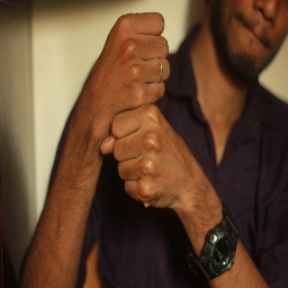G: (87, 8, 191, 212)
